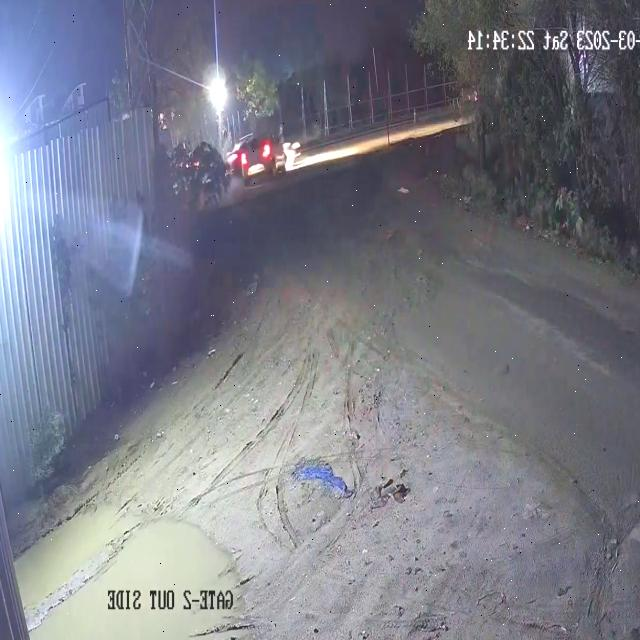accident: (225, 123, 300, 188)
